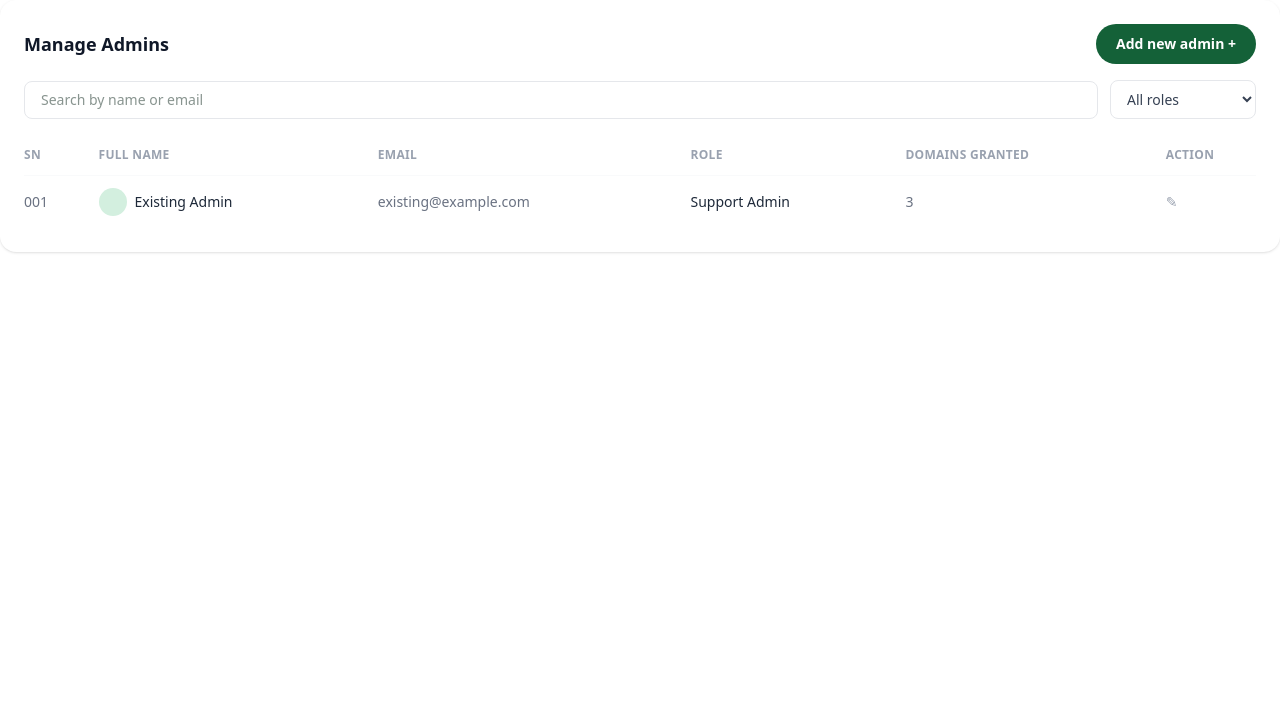
Test: ManageAdmins › shows the server error and keeps the modal open when the invite fails
Click the button "Add new admin +".
click(1176, 44)  # box [1096,24,1256,64]
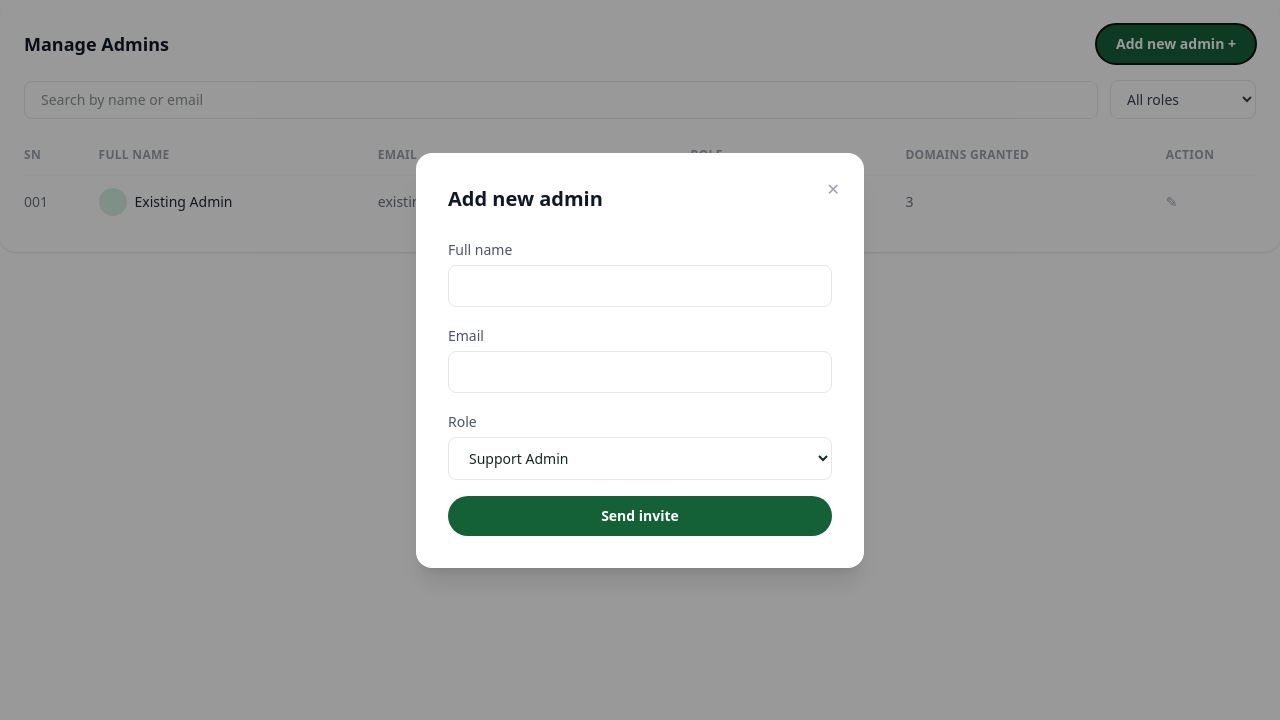
Type "Brand New Admin" into the field labelled "Full name".
click(640, 286); type("Brand New Admin")  # box [448,264,832,306]
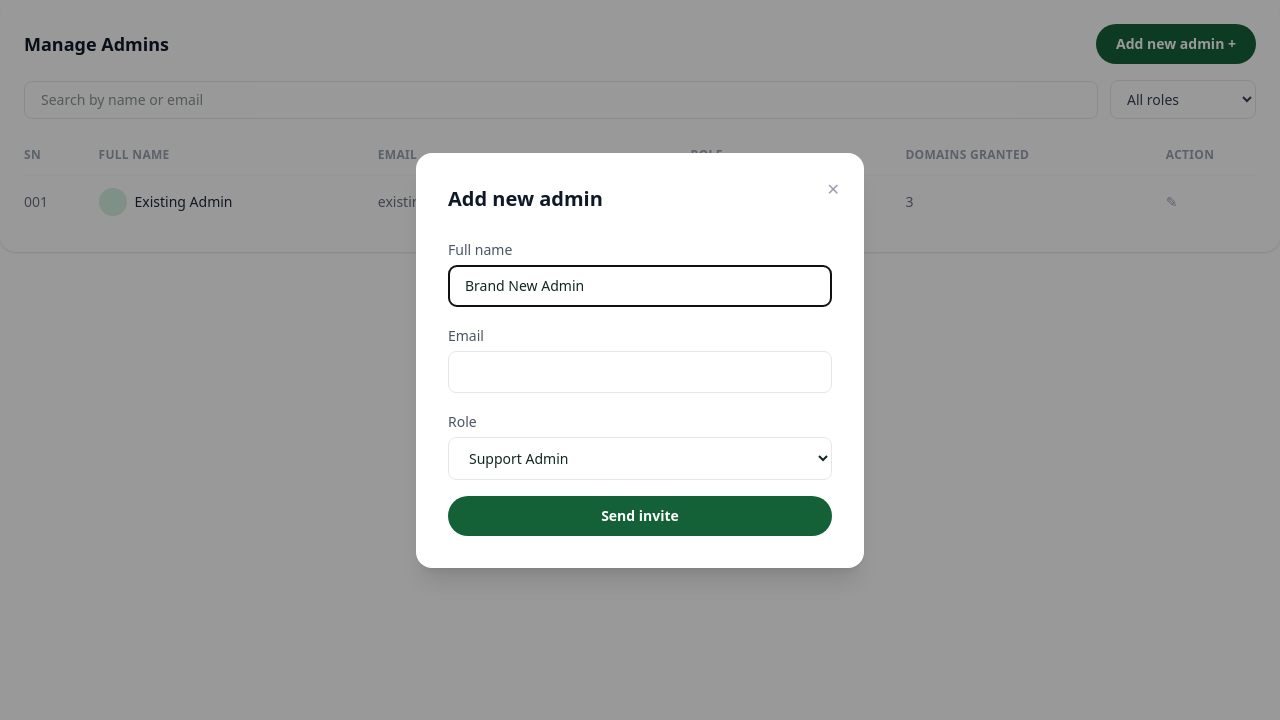
Type "brand.new@example.com" into the field labelled "Email".
click(640, 372); type("brand.new@example.com")  # box [448,350,832,392]
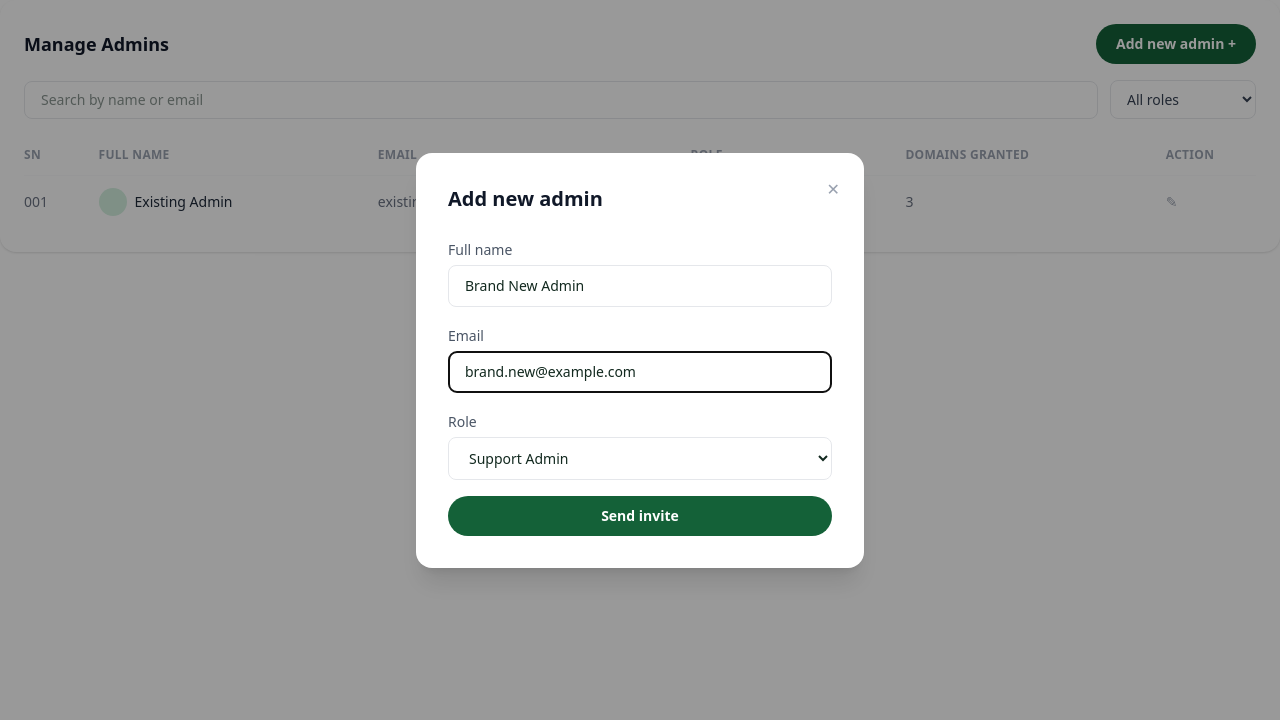
Click the button "Send invite".
click(640, 516)  # box [448,496,832,536]
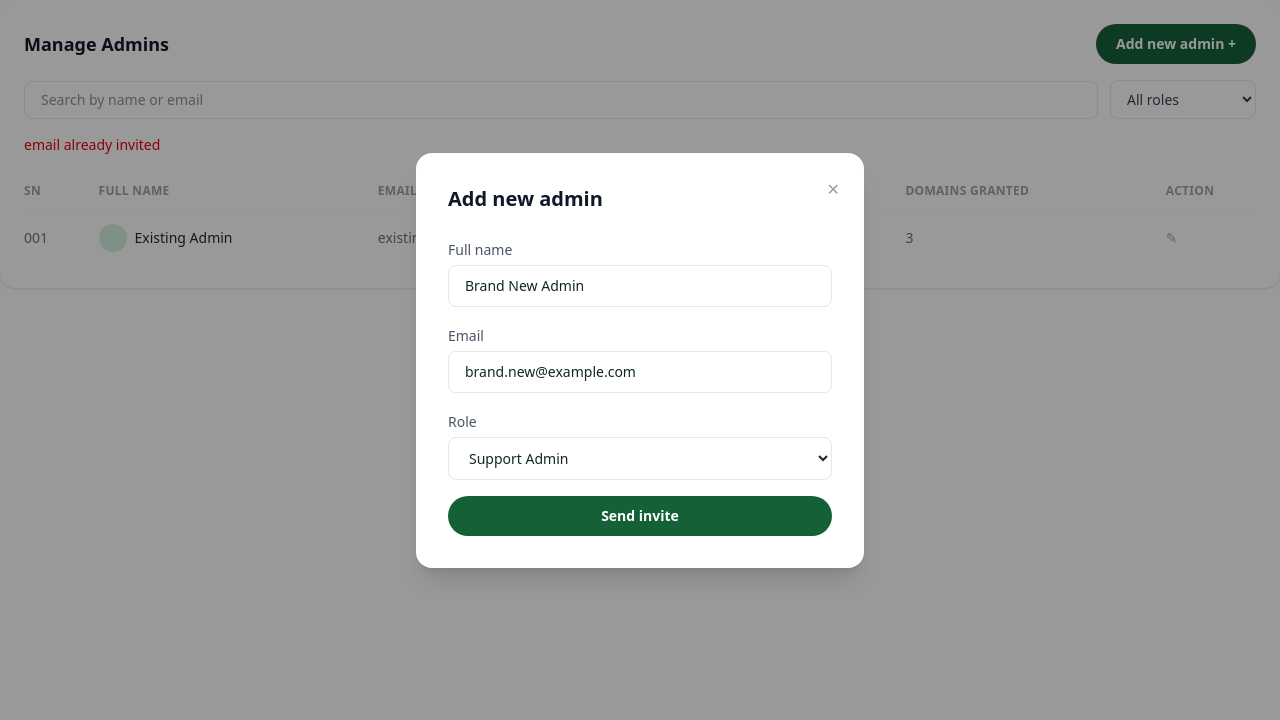
Check: the button "Send invite" is shown, box [448,496,832,536]
Check: the text "email already invited" is shown, box [24,135,160,154]
